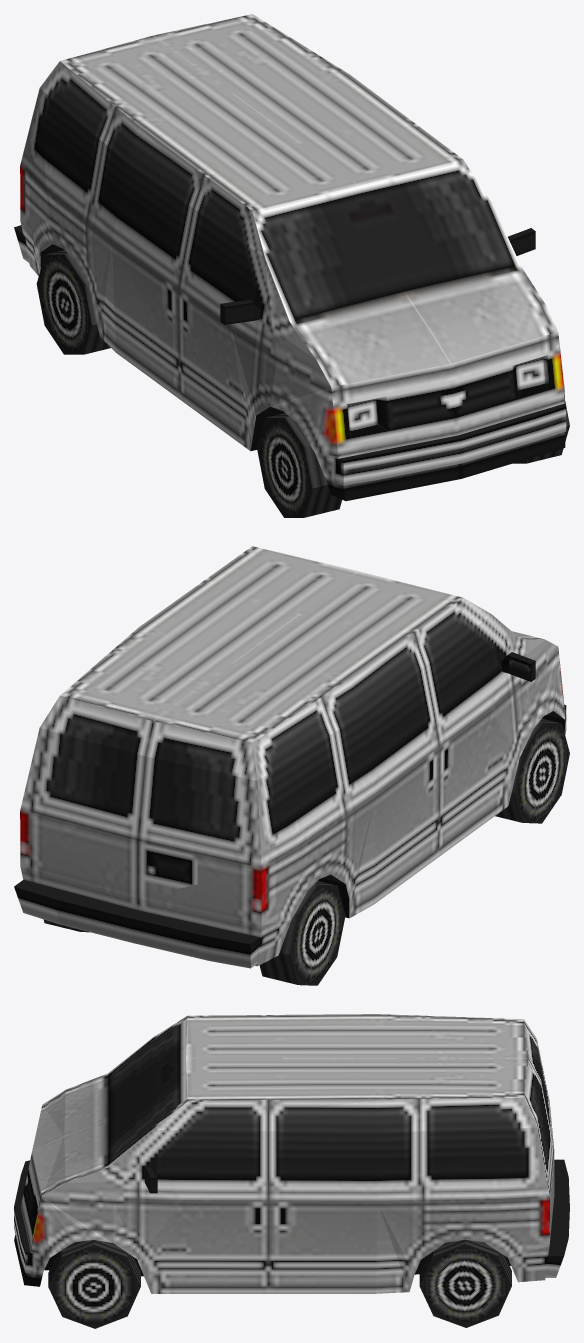
File: Auto5blanco.fbx
3 views of the same model, one above another, from view 1: azimuth 30°, elevation 25°; view 2: azimuth 150°, elevation 25°; view 3: azimuth 270°, elevation 25° (orthographic). The views are drawn at different scales.
Parts seen in each view (by area): view 1: Car4; view 2: Car4; view 3: Car4.
Boxes of the visible parts, left/top/right/bottom form: Car4: left=14, top=14, right=569, bottom=517; Car4: left=14, top=546, right=569, bottom=985; Car4: left=14, top=1014, right=569, bottom=1328.
Size of the model in its own units: 340 by 274 by 630.
Materials: 1 (1 with a texture image).
